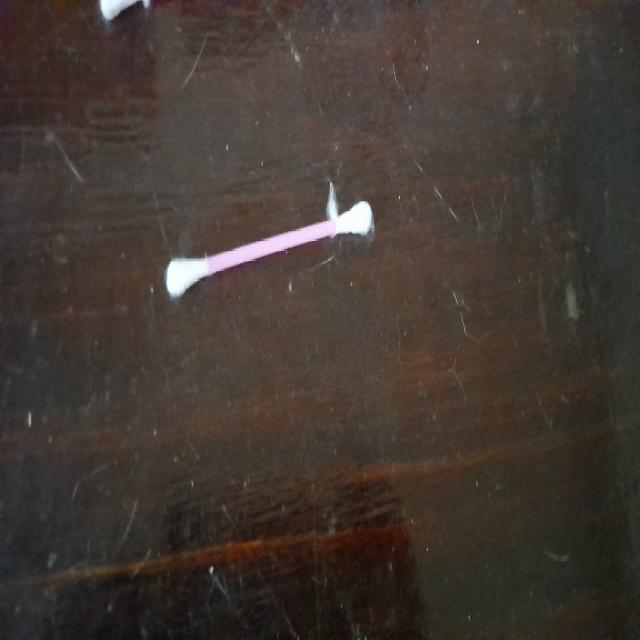Earbud - Non Recyclable: (164, 178, 376, 302)
